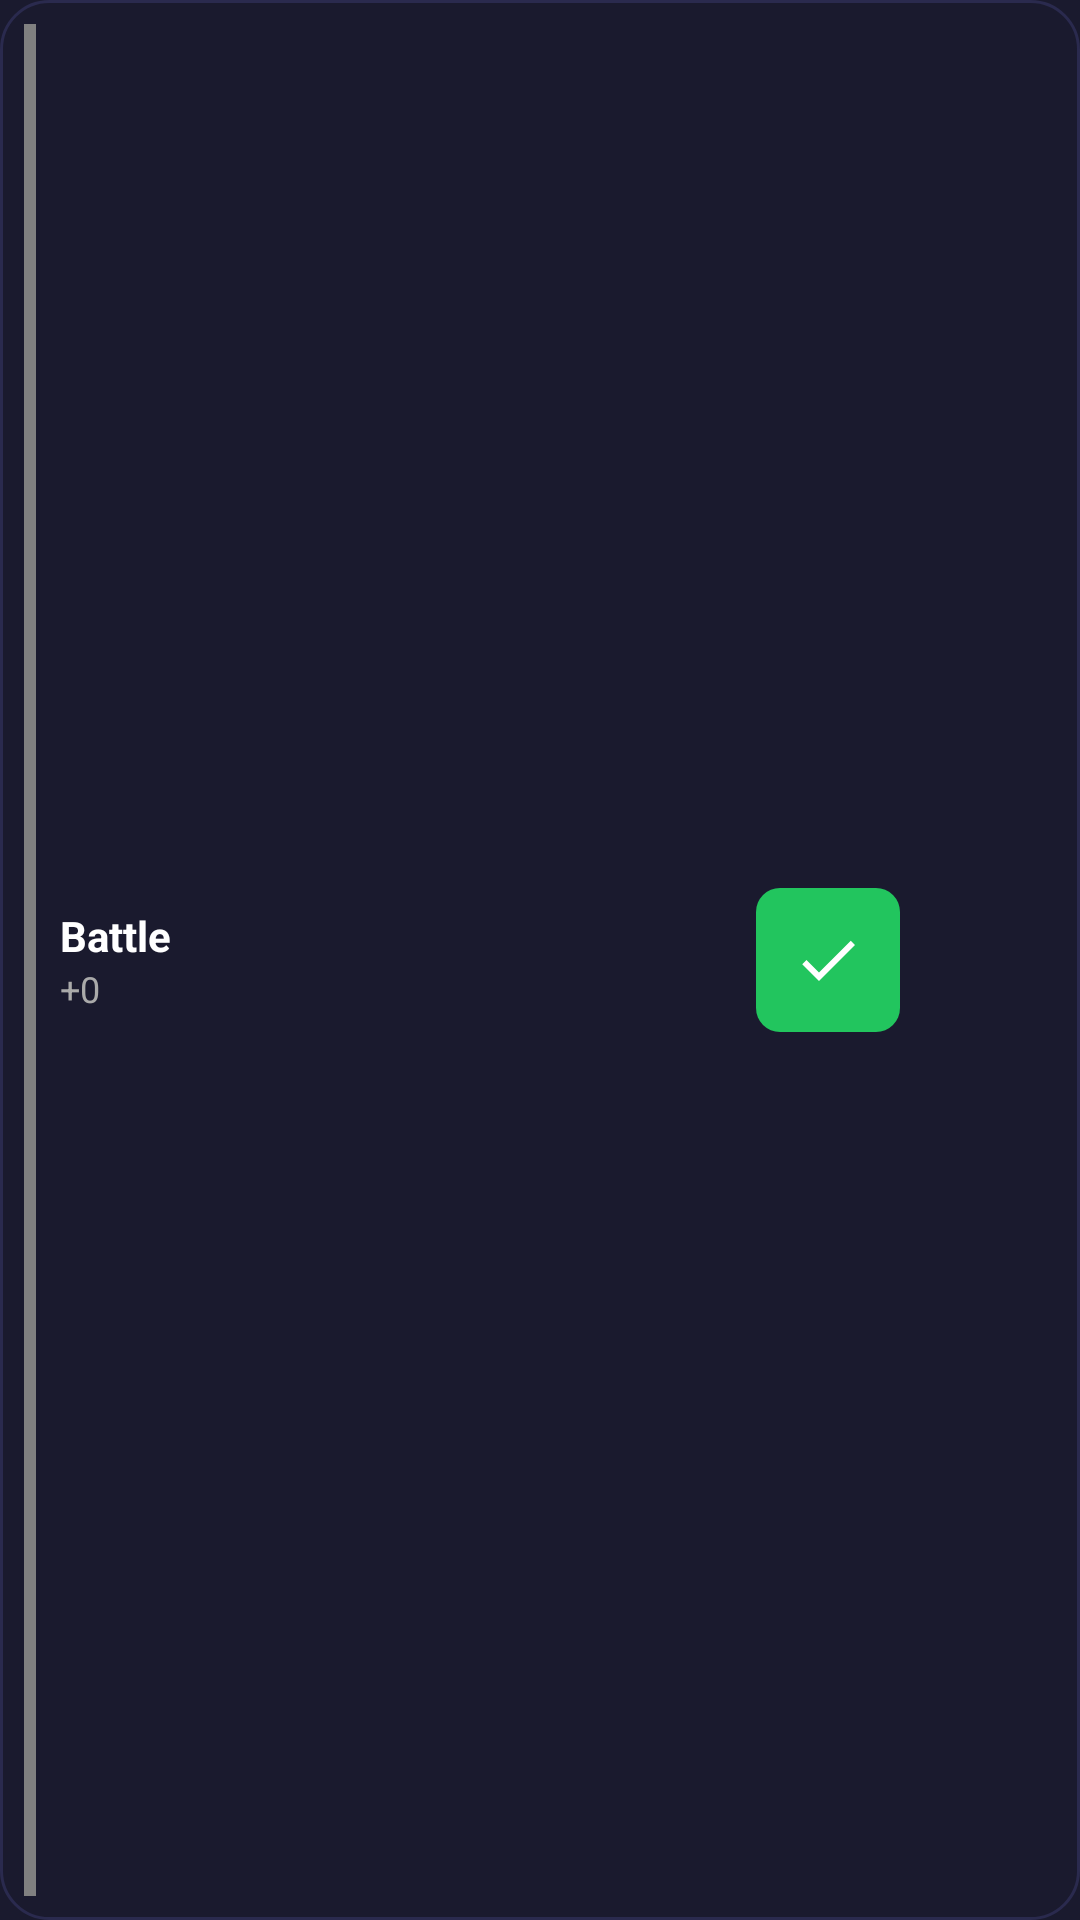

Screen size 1080 x 1920. Icon name, then its box in pixels as (x1, y1, x2, y2):
Yes: (756, 888, 900, 1032)
